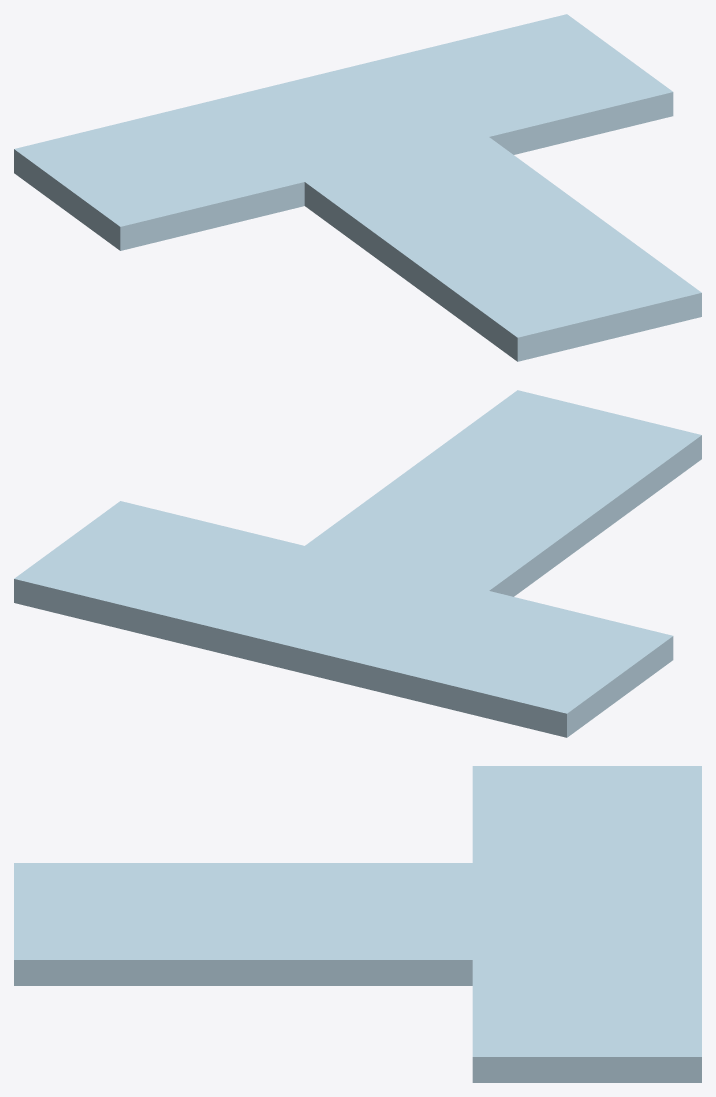
The model's file is TBraket.fbx.
3 views of the same model, one above another, from view 1: azimuth 30°, elevation 25°; view 2: azimuth 150°, elevation 25°; view 3: azimuth 270°, elevation 25° (orthographic). The views are drawn at different scales.
Parts seen in each view (by area): view 1: Part 1; view 2: Part 1; view 3: Part 1.
Boxes of the visible parts, <box> form: Part 1: <box>14,14,701,361</box>; Part 1: <box>14,390,701,737</box>; Part 1: <box>14,766,701,1082</box>.
Size of the model in its own units: 7.62 by 0.3175 by 7.62.
